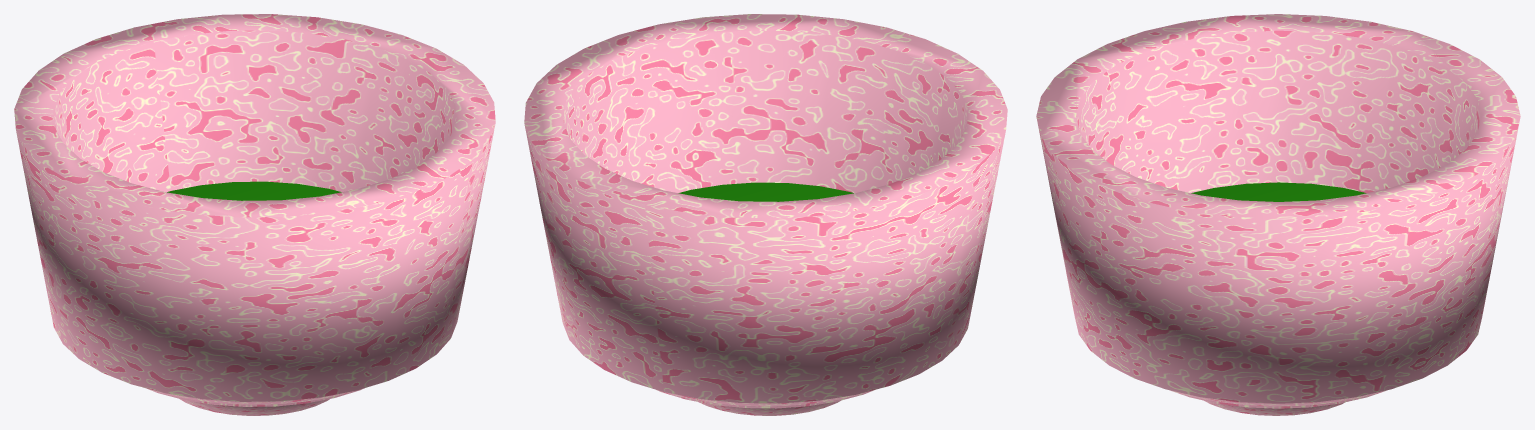
3 views of the same model, side by side, from view 1: azimuth 30°, elevation 25°; view 2: azimuth 150°, elevation 25°; view 3: azimuth 270°, elevation 25° (orthographic).
Parts seen in each view (by area): view 1: 円柱.002, 円柱.001, 円柱; view 2: 円柱.002, 円柱.001, 円柱; view 3: 円柱.002, 円柱.001, 円柱.
Boxes of the visible parts, x1=… form: 円柱.002: x1=14, y1=14, x2=495, y2=406; 円柱.001: x1=167, y1=181, x2=341, y2=200; 円柱: x1=179, y1=398, x2=329, y2=415; 円柱.002: x1=524, y1=14, x2=1007, y2=408; 円柱.001: x1=678, y1=182, x2=853, y2=201; 円柱: x1=698, y1=400, x2=840, y2=415; 円柱.002: x1=1036, y1=14, x2=1520, y2=408; 円柱.001: x1=1191, y1=182, x2=1366, y2=201; 円柱: x1=1204, y1=400, x2=1344, y2=415.
Bounding box in the file's own units: 1.6 × 0.9908 × 1.6.
3 materials, 2 textured.
